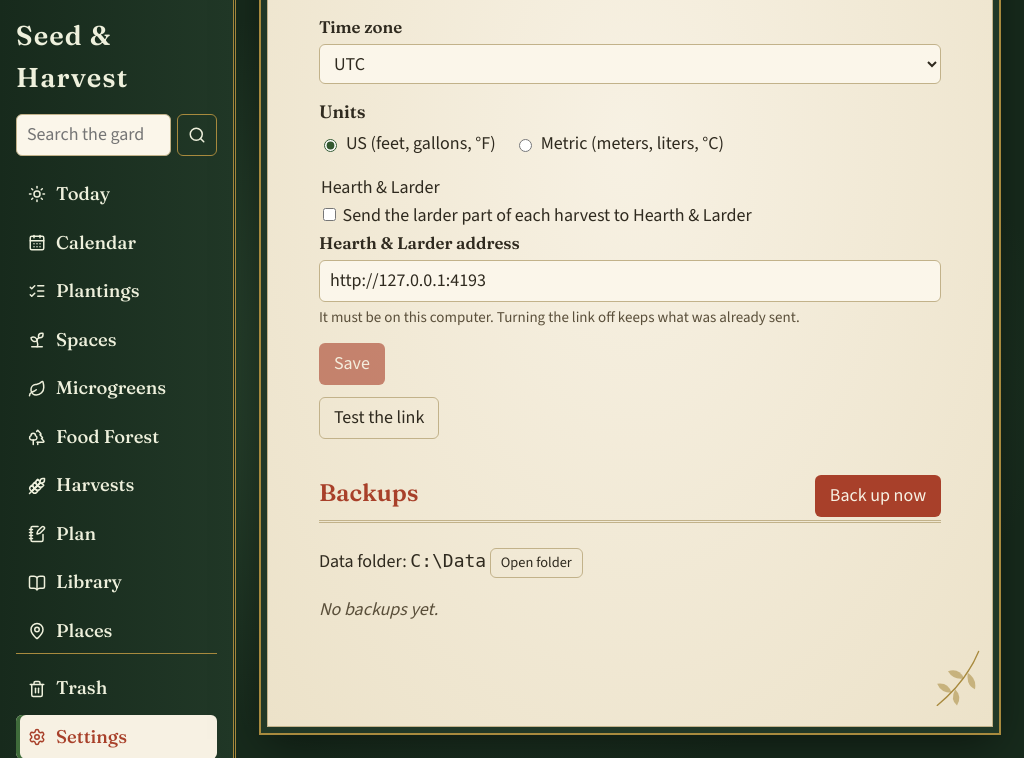
Settings › says so when the data folder will not open
(page scrolled)
Click the button "Open folder" at (536,563), box 490,548 -> 583,578
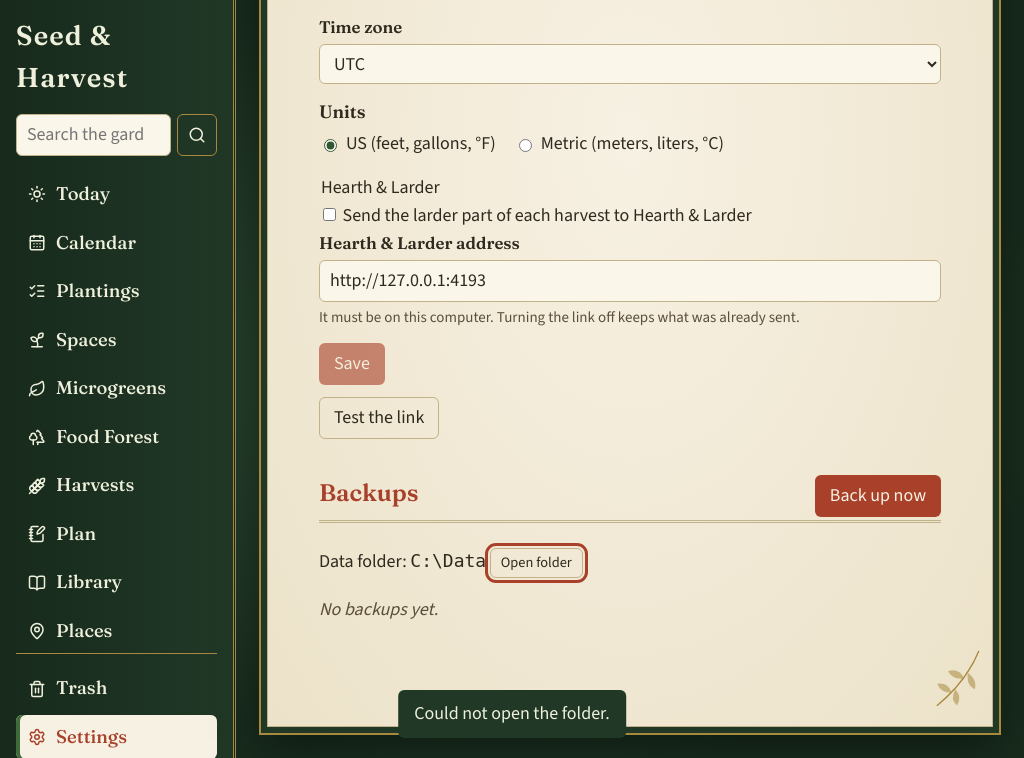
Now the text "Could not open the folder." is shown, box 414,700 -> 610,728
